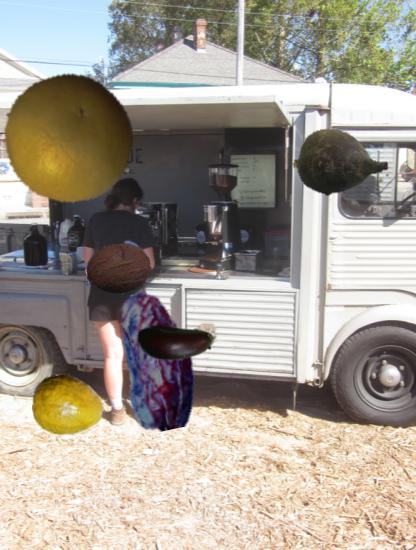Beetroot: (290, 112, 391, 213)
Cocos: (86, 236, 151, 301)
Dates: (87, 291, 227, 431)
Eggplant: (136, 304, 217, 385)
Grapefruit: (2, 71, 136, 205)
Guava: (32, 368, 105, 441)
